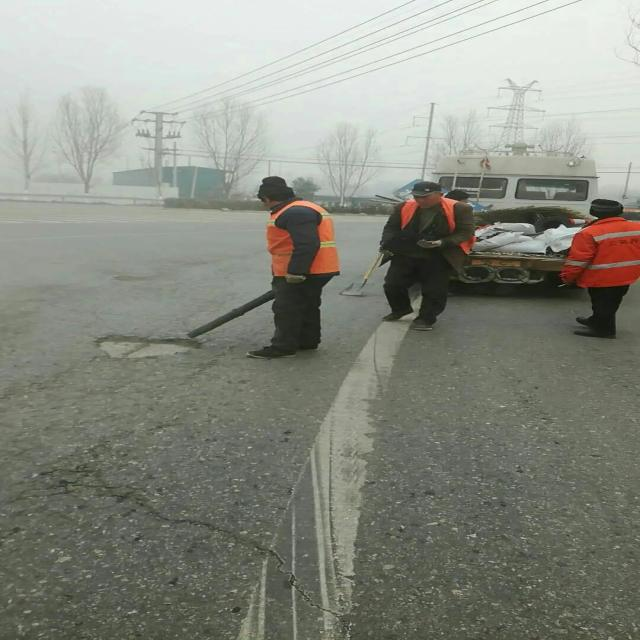Pothole: (86, 331, 210, 366)
